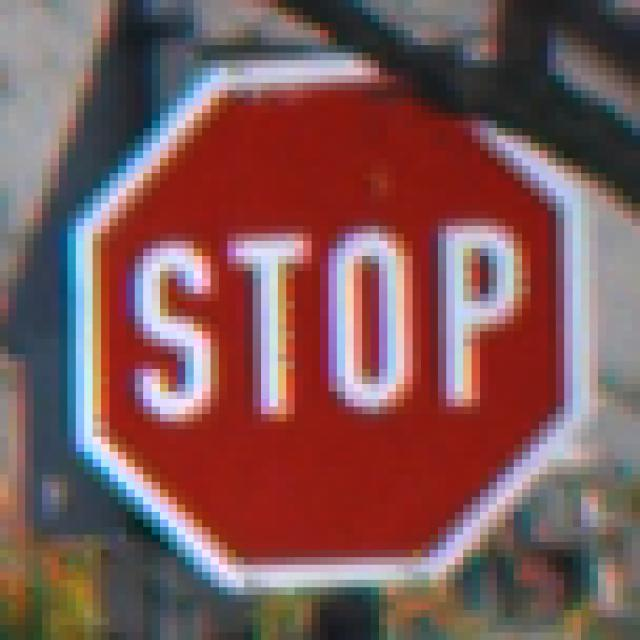STOP: (60, 54, 590, 588)
